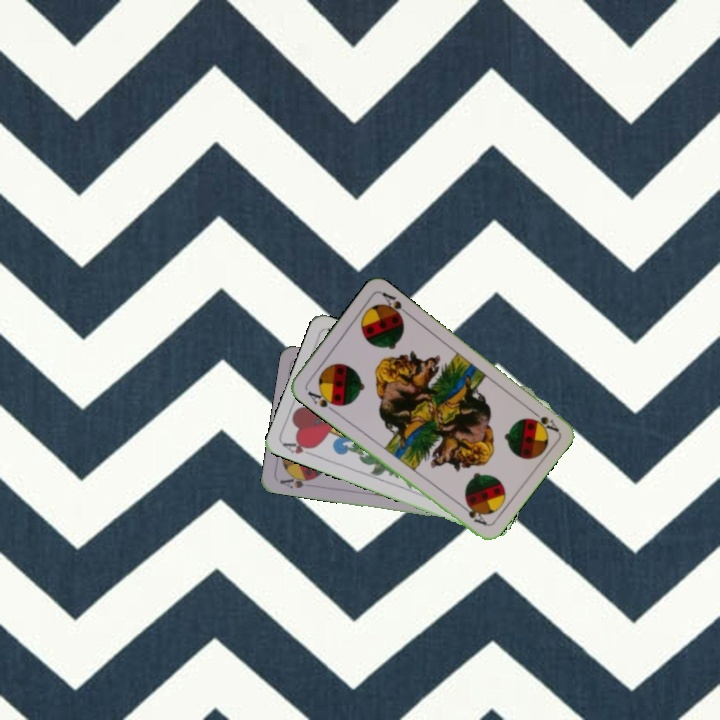HA: (279, 437, 319, 459)
SA: (303, 386, 341, 415), (526, 405, 561, 435), (276, 471, 317, 491)
